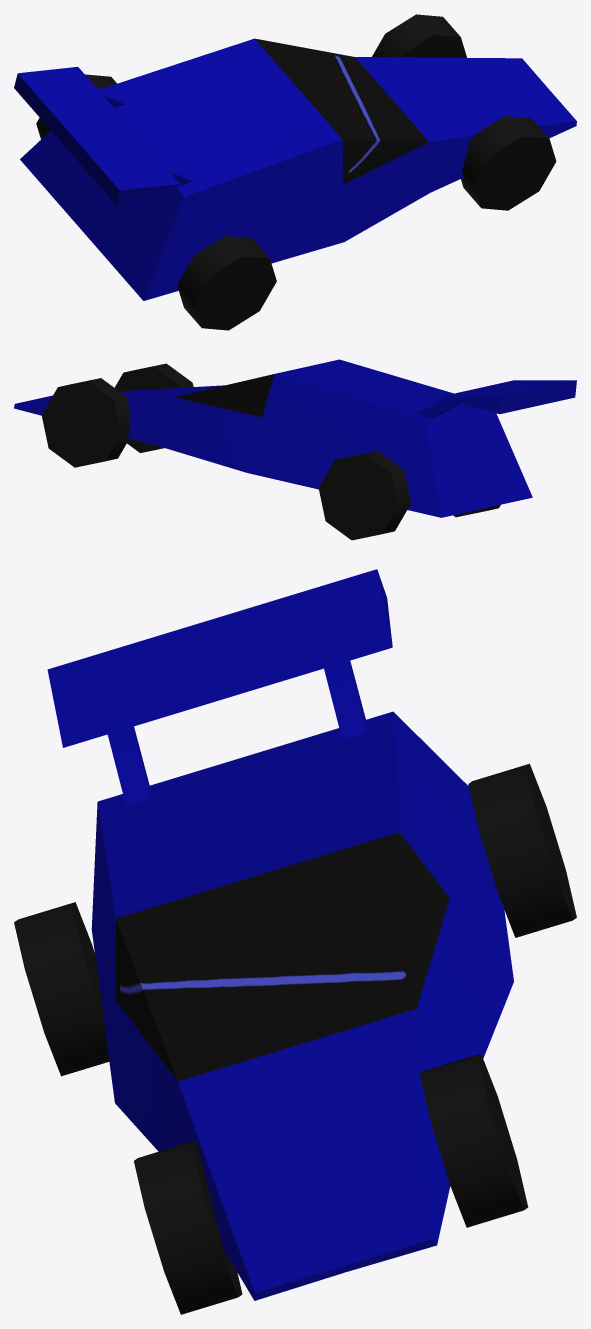
File: teeny racecar.fbx
3 renders of one model, top to bottom at view 1: azimuth 30°, elevation 25°; view 2: azimuth 150°, elevation 25°; view 3: azimuth 270°, elevation 25°, orthographic. The views are drawn at different scales.
Visible parts, largest first — view 1: node_id8 (×3); view 2: node_id8 (×3); view 3: node_id8 (×3).
Boxes of the visible parts, left/top/right/bottom form: node_id8 (×3): left=14, top=14, right=576, bottom=330; node_id8 (×3): left=14, top=359, right=576, bottom=540; node_id8 (×3): left=14, top=569, right=576, bottom=1314.
Bounding box in the file's own units: 1.03 × 0.4184 × 0.5375.
3 materials, 1 textured.
